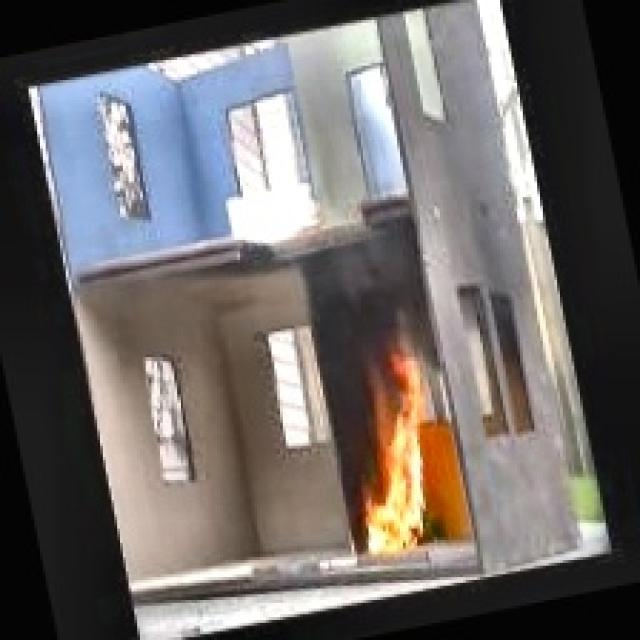fire: (314, 346, 472, 568)
